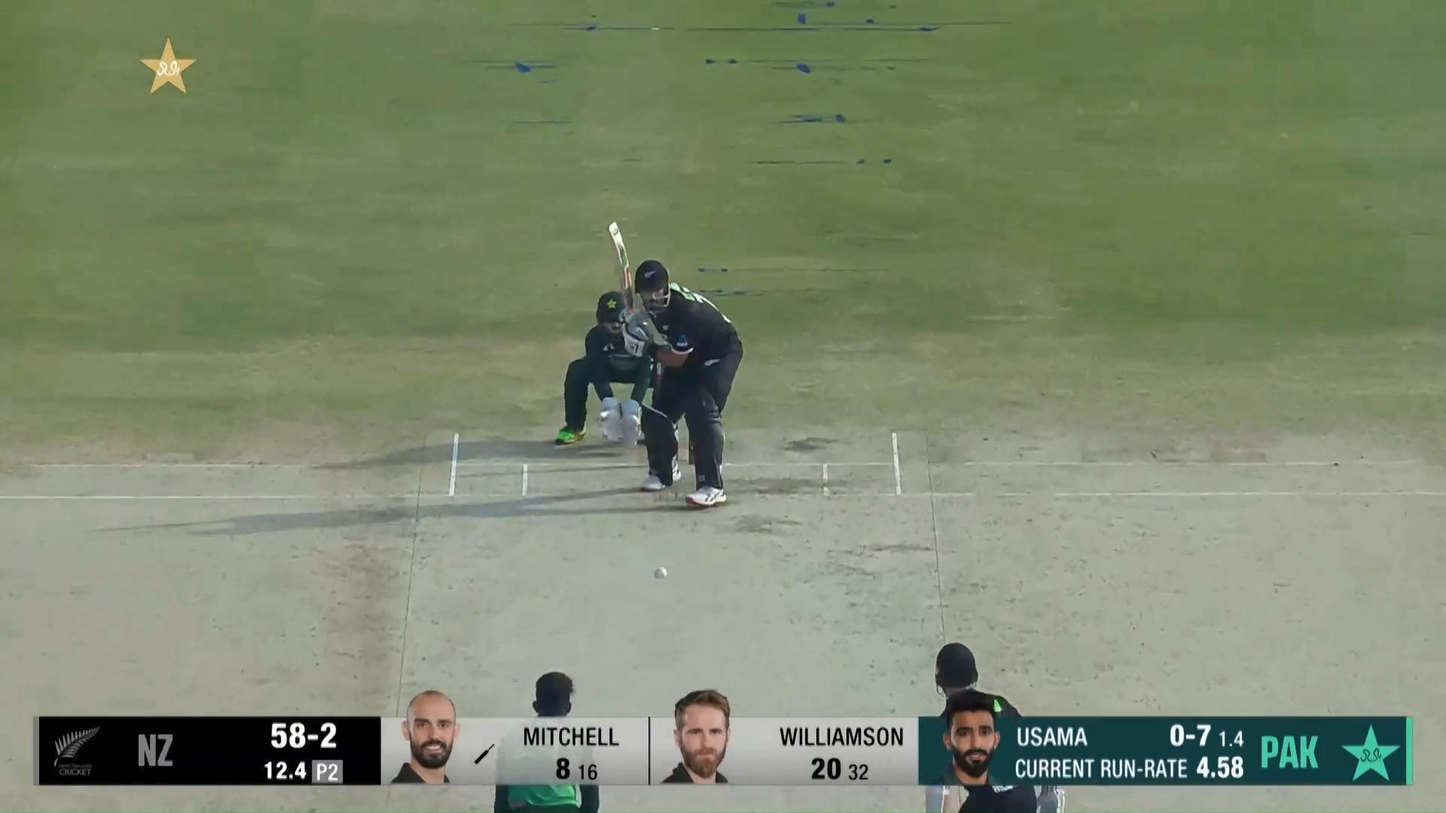BM 1: (608, 221, 744, 507)
BO: (495, 669, 600, 813)
